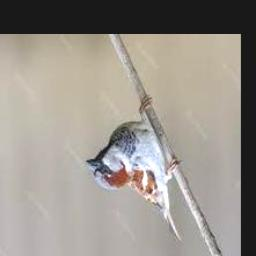Sparrow: (86, 95, 182, 241)
